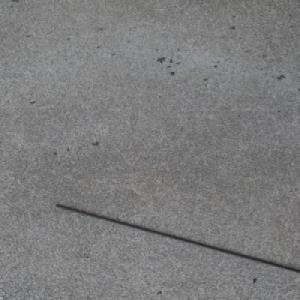LuggagePart: (54, 203, 300, 273)
